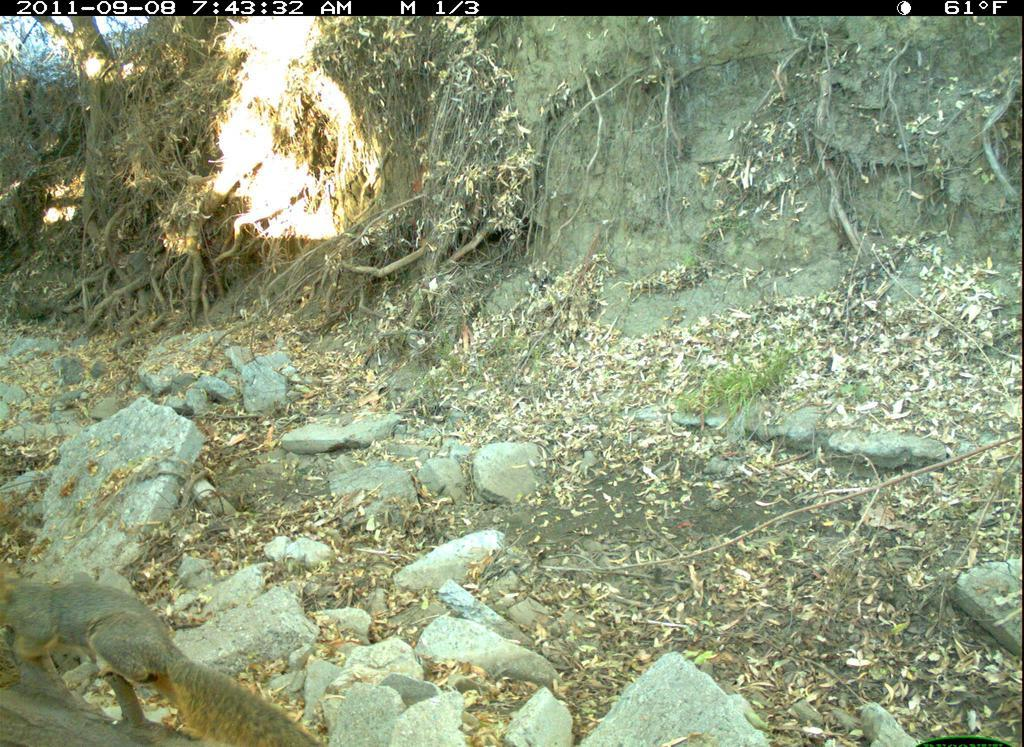squirrel: (3, 561, 328, 747)
